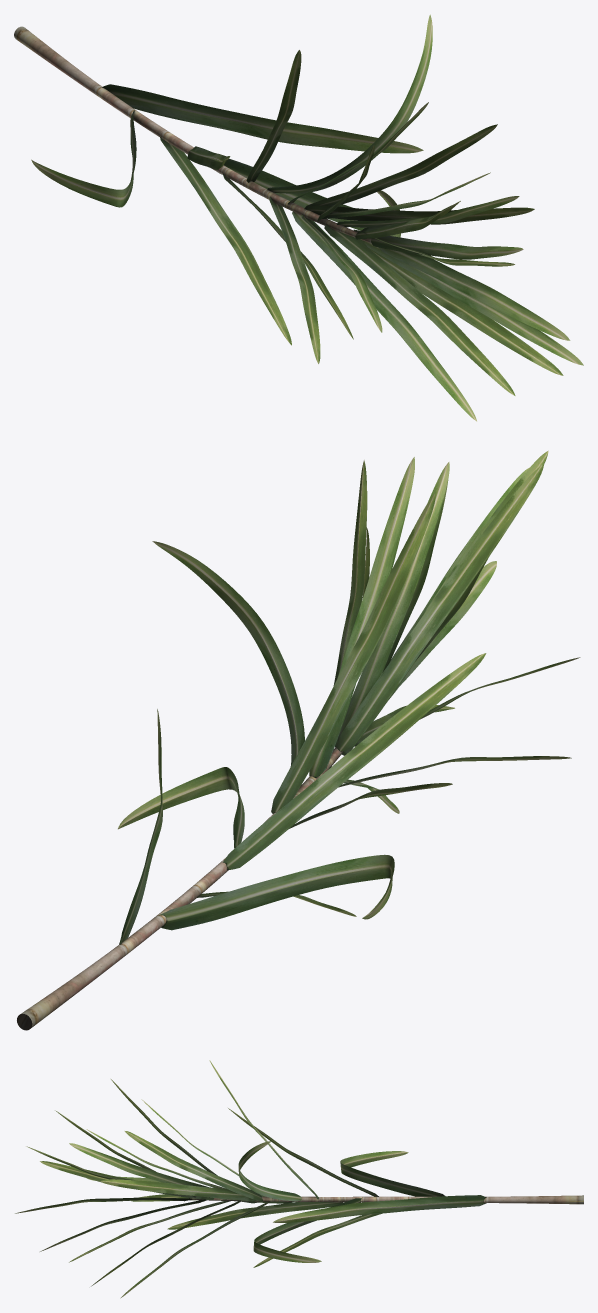
File: 10454_Sugarcane_Field_v1_2009_it2.obj
The picture shows the model from 3 angles, top to bottom: view 1: azimuth 30°, elevation 25°; view 2: azimuth 150°, elevation 25°; view 3: azimuth 270°, elevation 25°; orthographic projection. The views are drawn at different scales.
Visible parts, largest first — view 1: 10454_Sugarcane_Field_v1_SG; view 2: 10454_Sugarcane_Field_v1_SG; view 3: 10454_Sugarcane_Field_v1_SG.
Part boxes in pixels (x1=…): 10454_Sugarcane_Field_v1_SG: x1=14, y1=14, x2=583, y2=421; 10454_Sugarcane_Field_v1_SG: x1=17, y1=450, x2=580, y2=1030; 10454_Sugarcane_Field_v1_SG: x1=15, y1=1060, x2=583, y2=1298.
Bounding box in the file's own units: 77.04 × 88.04 × 218.
Materials: 1 (1 with a texture image).
